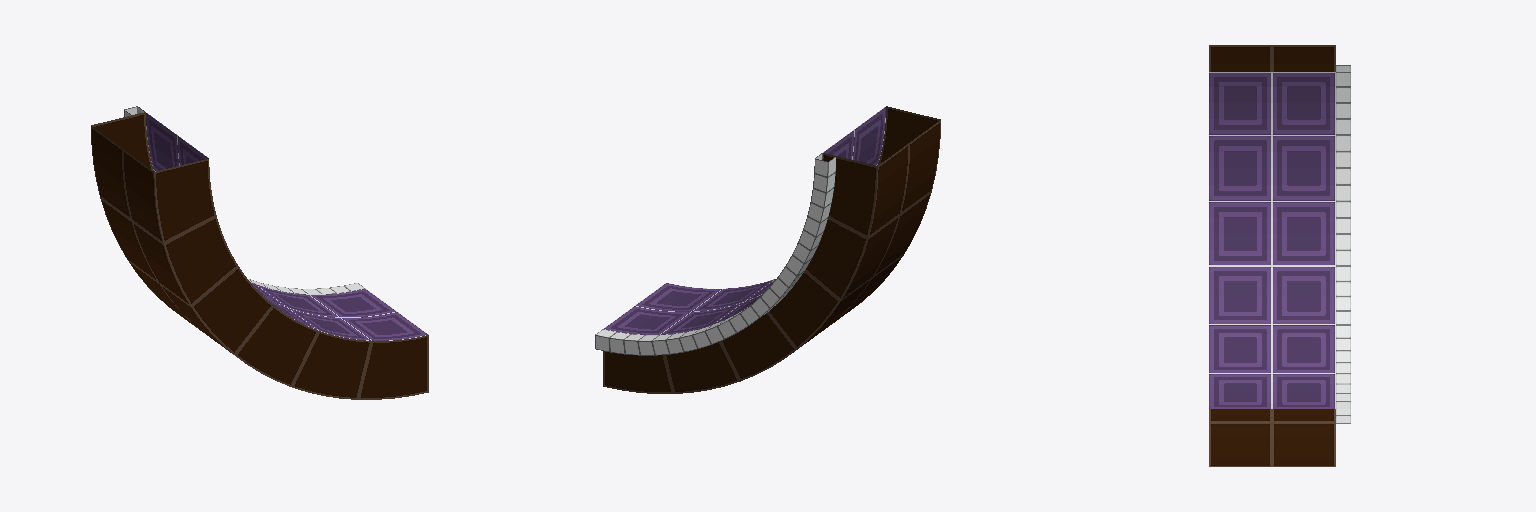
3 renders of one model, left to right at view 1: azimuth 30°, elevation 25°; view 2: azimuth 150°, elevation 25°; view 3: azimuth 270°, elevation 25°, orthographic.
Visible parts, largest first — view 1: ParCoreCurve2OneTrim; view 2: ParCoreCurve2OneTrim; view 3: ParCoreCurve2OneTrim.
Boxes of the visible parts, box(x1,y1,x2,y2) form: ParCoreCurve2OneTrim: box(91, 106, 428, 399); ParCoreCurve2OneTrim: box(595, 106, 940, 393); ParCoreCurve2OneTrim: box(1209, 45, 1350, 466).
Bounding box in the file's own units: 10 × 10 × 4.5.
Materials: 3 (3 with a texture image).